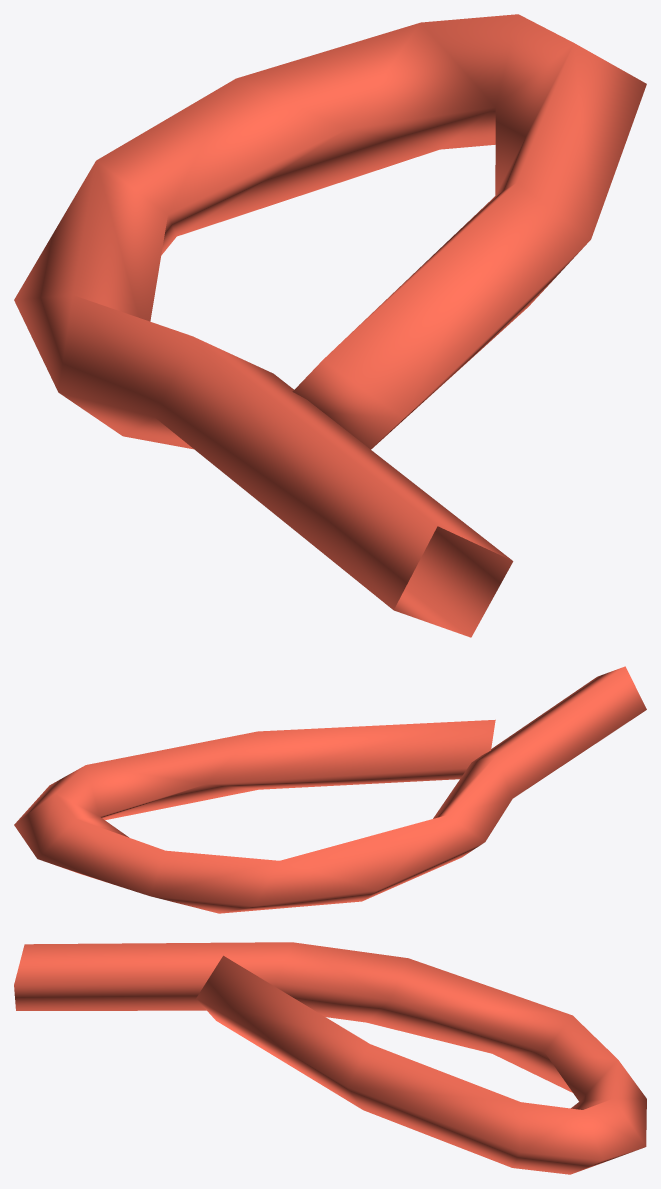
3 views of the same model, one above another, from view 1: azimuth 30°, elevation 25°; view 2: azimuth 150°, elevation 25°; view 3: azimuth 270°, elevation 25° (orthographic). The views are drawn at different scales.
Parts seen in each view (by area): view 1: SkinnedMesh; view 2: SkinnedMesh; view 3: SkinnedMesh.
Part boxes in pixels (x1,y1,x2,y2): SkinnedMesh: (14,14,646,637); SkinnedMesh: (14,666,646,913); SkinnedMesh: (14,942,646,1174).
Bounding box in the file's own units: 3512 × 824 × 4964.
